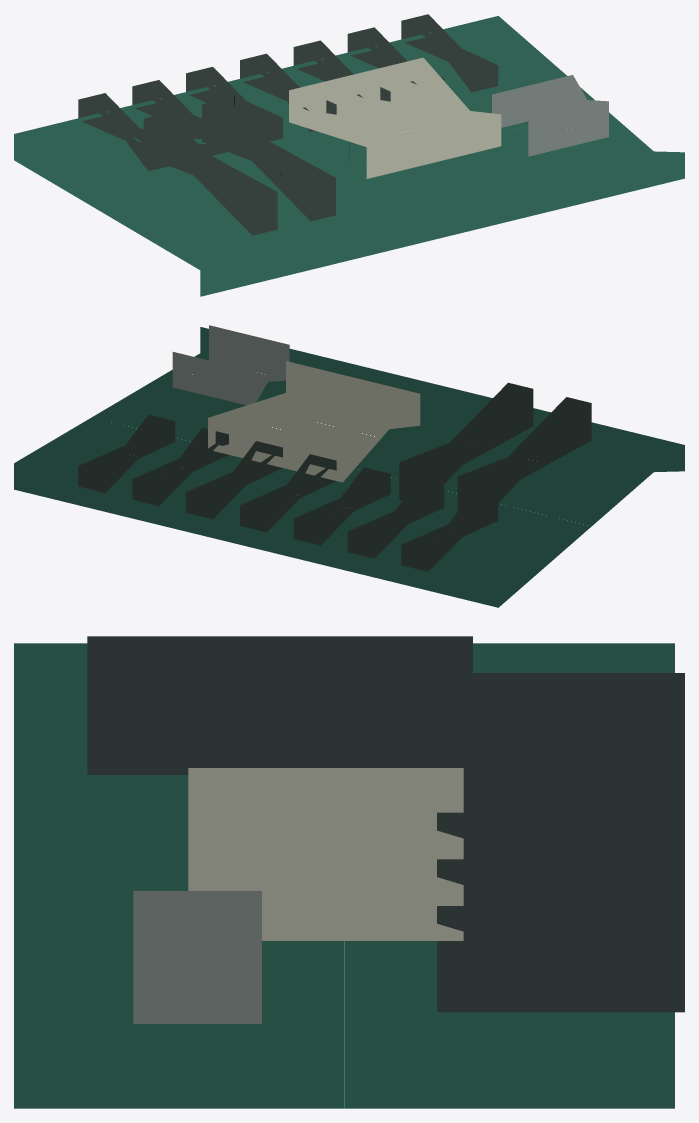
File: motherboard.gltf
3 views of the same model, one above another, from view 1: azimuth 30°, elevation 25°; view 2: azimuth 150°, elevation 25°; view 3: azimuth 270°, elevation 25° (orthographic). The views are drawn at different scales.
Visible parts, largest first — view 1: Motherboard, CPU, Chipset, RAM_A, RAM_B, PCIE_6, PCIE_0, PCIE_2, PCIE_1, PCIE_3, PCIE_4, PCIE_5; view 2: Motherboard, CPU, Chipset, RAM_B, RAM_A, PCIE_2, PCIE_6, PCIE_1, PCIE_0, PCIE_5, PCIE_4, PCIE_3; view 3: Motherboard, CPU, RAM_B, RAM_A, Chipset, PCIE_6, PCIE_5, PCIE_3, PCIE_4, PCIE_2, PCIE_1, PCIE_0.
Part boxes in pixels (x1,y1,x2,y2): Motherboard: [14, 16, 684, 296]; CPU: [289, 57, 501, 178]; Chipset: [492, 75, 608, 156]; RAM_A: [143, 112, 277, 235]; RAM_B: [202, 98, 335, 221]; PCIE_6: [401, 14, 498, 92]; PCIE_0: [78, 93, 175, 171]; PCIE_2: [186, 67, 282, 140]; PCIE_1: [132, 80, 228, 155]; PCIE_3: [240, 53, 336, 131]; PCIE_4: [293, 40, 390, 101]; PCIE_5: [347, 27, 444, 84]; Motherboard: [14, 327, 684, 607]; CPU: [208, 361, 420, 482]; Chipset: [172, 325, 289, 405]; RAM_B: [399, 382, 533, 504]; RAM_A: [457, 397, 591, 519]; PCIE_2: [293, 467, 390, 545]; PCIE_6: [78, 414, 175, 492]; PCIE_1: [347, 480, 444, 558]; PCIE_0: [401, 493, 498, 571]; PCIE_5: [132, 428, 228, 505]; PCIE_4: [186, 441, 282, 519]; PCIE_3: [240, 454, 336, 532]; Motherboard: [14, 643, 674, 1108]; CPU: [188, 768, 463, 940]; RAM_B: [87, 686, 472, 774]; RAM_A: [87, 636, 472, 686]; Chipset: [133, 891, 261, 1023]; PCIE_6: [437, 952, 684, 1012]; PCIE_5: [437, 906, 684, 952]; PCIE_3: [437, 812, 684, 859]; PCIE_4: [437, 859, 684, 905]; PCIE_2: [437, 766, 684, 812]; PCIE_1: [473, 719, 684, 766]; PCIE_0: [473, 673, 684, 719].
Size of the model in its own units: 5.4 by 0.7 by 3.66.
